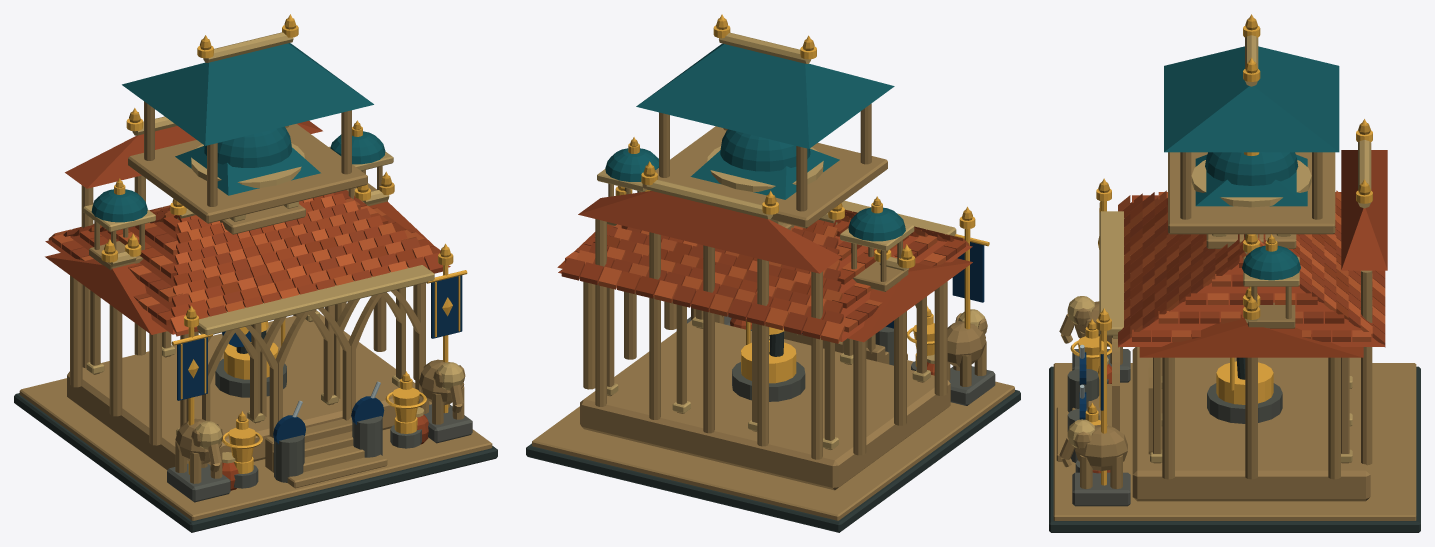
The picture shows the model from 3 angles, left to right: view 1: azimuth 30°, elevation 25°; view 2: azimuth 150°, elevation 25°; view 3: azimuth 270°, elevation 25°; orthographic projection. The views are drawn at different scales.
Visible parts, largest first — view 1: hero_hall_level10_structure, hero_hall_level10_metal; view 2: hero_hall_level10_structure, hero_hall_level10_metal; view 3: hero_hall_level10_structure, hero_hall_level10_metal.
Part boxes in pixels (x1,y1,x2,y2): hero_hall_level10_structure: (14,18,497,532); hero_hall_level10_metal: (101,14,467,474); hero_hall_level10_structure: (526,18,1020,532); hero_hall_level10_metal: (615,14,989,383); hero_hall_level10_structure: (1049,18,1420,532); hero_hall_level10_metal: (1070,14,1372,485).
Bounding box in the file's own units: 5.6 × 6.97 × 5.6.
